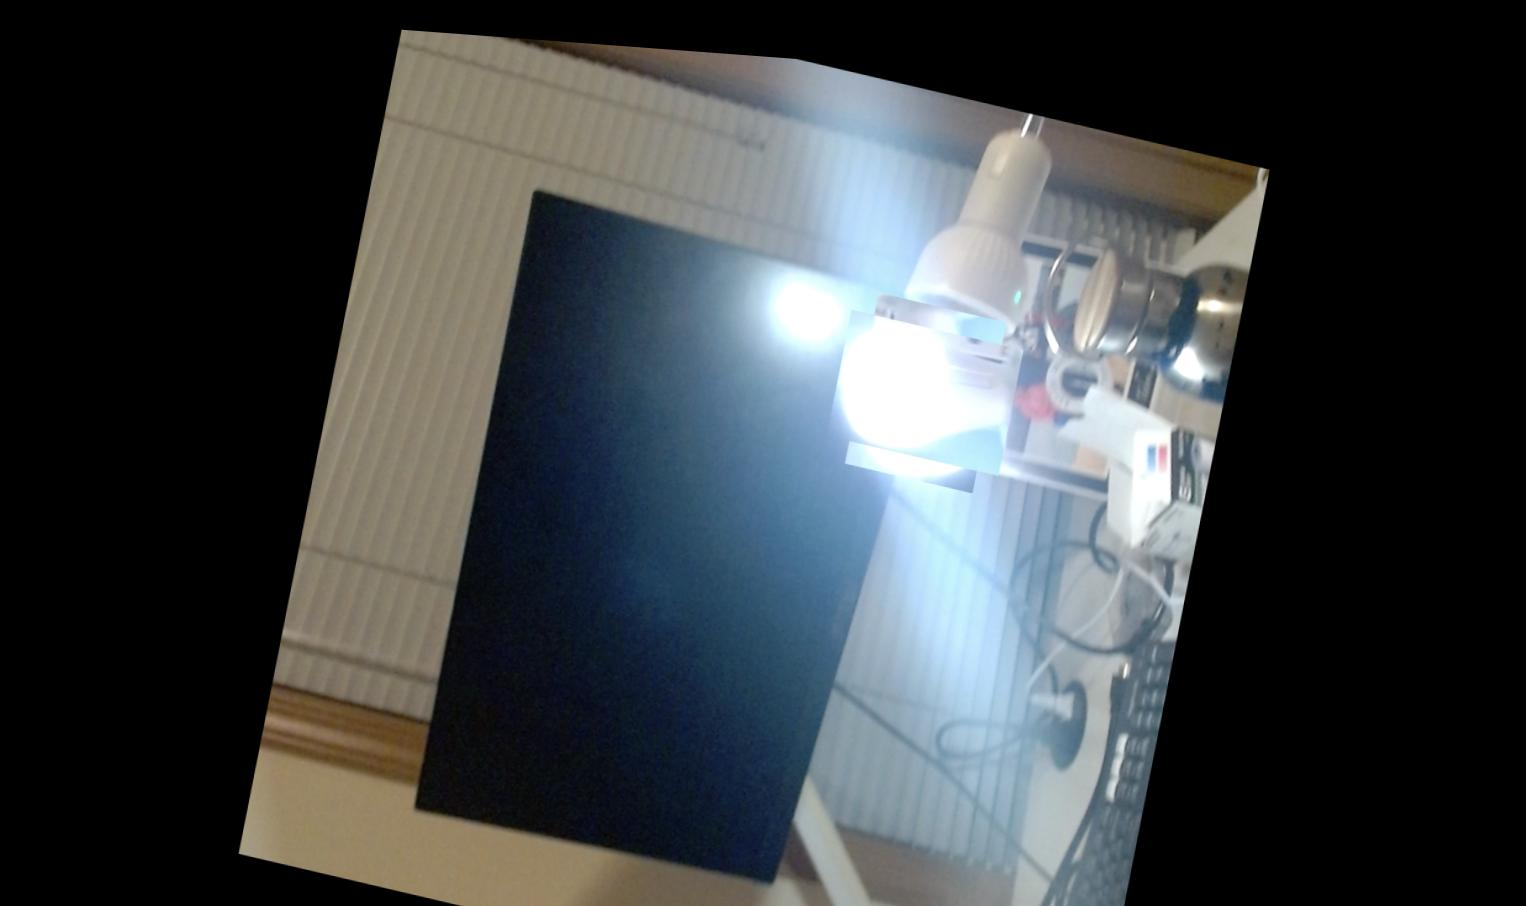TubeLight: (838, 285, 1017, 470)
